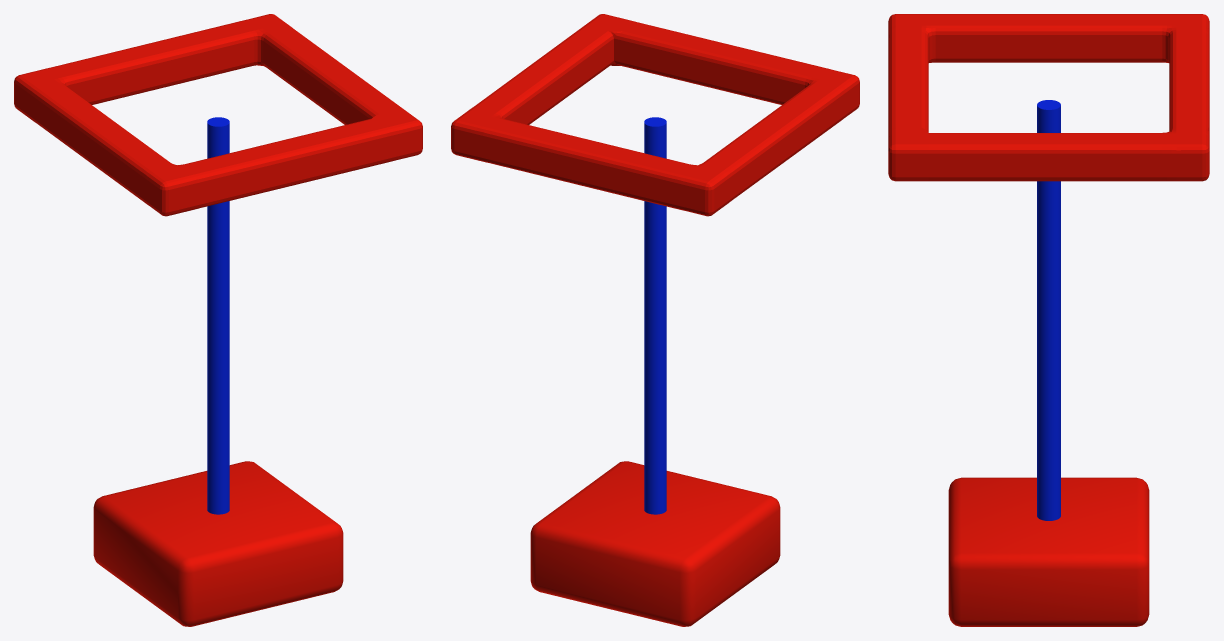
Rendered from Press.fbx.
3 renders of one model, left to right at view 1: azimuth 30°, elevation 25°; view 2: azimuth 150°, elevation 25°; view 3: azimuth 270°, elevation 25°, orthographic. The views are drawn at different scales.
Visible parts, largest first — view 1: Press Obstacle Main, Press Obstacle; view 2: Press Obstacle Main, Press Obstacle; view 3: Press Obstacle, Press Obstacle Main.
Part boxes in pixels (<box>): Press Obstacle Main: <box>14,14,422,216</box>; Press Obstacle: <box>93,117,343,626</box>; Press Obstacle Main: <box>451,14,859,216</box>; Press Obstacle: <box>530,117,780,626</box>; Press Obstacle: <box>948,100,1149,626</box>; Press Obstacle Main: <box>888,14,1209,181</box>.
Bounding box in the file's own units: 800 × 1400 × 800.
